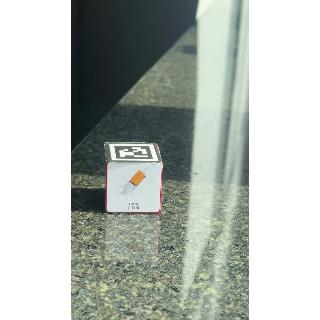Syringe: (109, 161, 165, 214)
